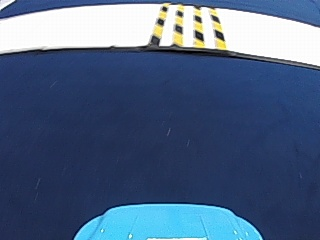bump: (144, 5, 226, 48)
